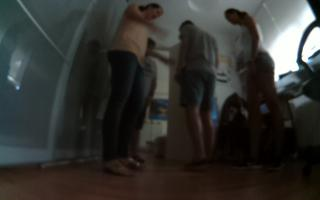person: (96, 2, 165, 183), (223, 4, 296, 173), (169, 16, 220, 174), (130, 33, 166, 173)
